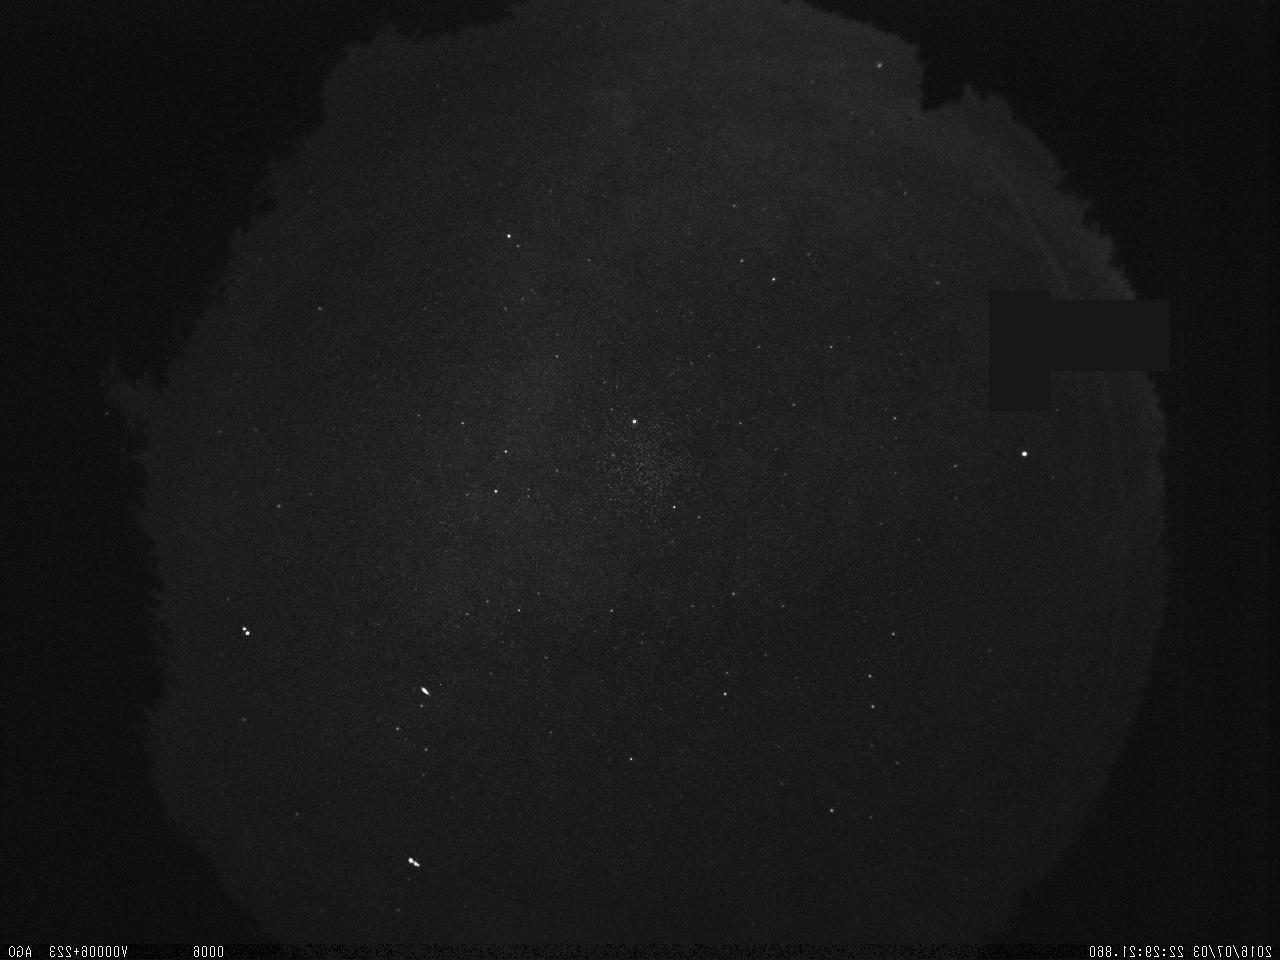meteor: (415, 686, 433, 698)
